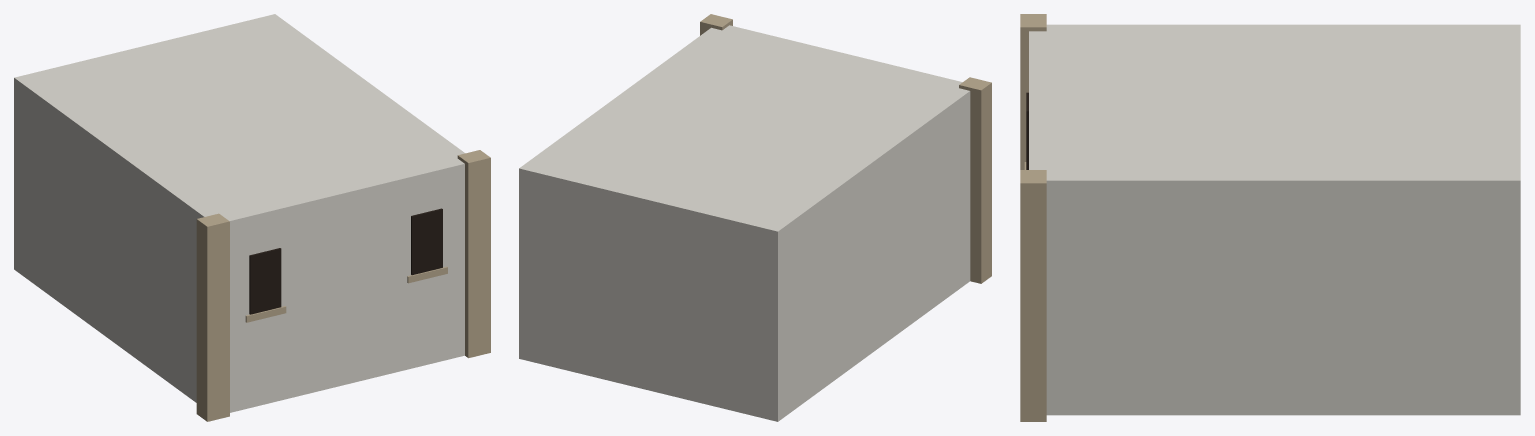
Rendered from fachada.glb.
3 views of the same model, side by side, from view 1: azimuth 30°, elevation 25°; view 2: azimuth 150°, elevation 25°; view 3: azimuth 270°, elevation 25° (orthographic). The views are drawn at different scales.
Visible parts, largest first — view 1: fachada; view 2: fachada; view 3: fachada.
Part boxes in pixels (x1=…): fachada: x1=14, y1=14, x2=490, y2=421; fachada: x1=519, y1=14, x2=991, y2=421; fachada: x1=1020, y1=14, x2=1520, y2=421.
Bounding box in the file's own units: 4.56 × 3 × 5.7.
